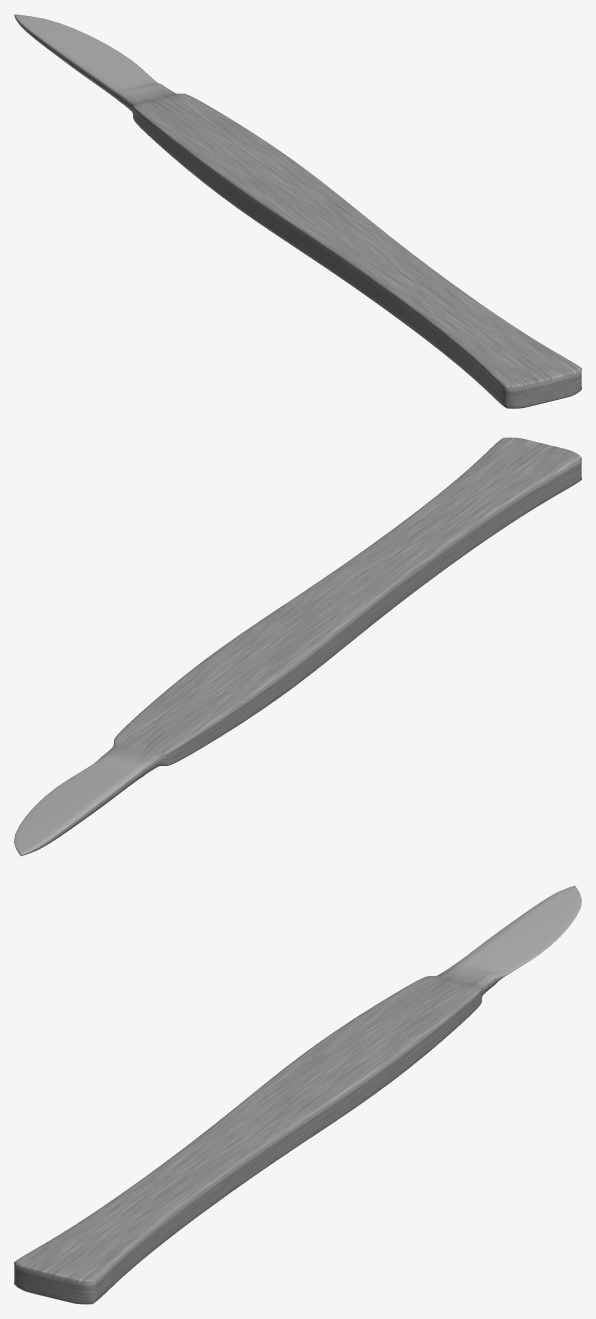
Rendered from Scalpel.fbx.
The picture shows the model from 3 angles, top to bottom: view 1: azimuth 30°, elevation 25°; view 2: azimuth 150°, elevation 25°; view 3: azimuth 330°, elevation 25°; orthographic projection. The views are drawn at different scales.
Parts seen in each view (by area): view 1: cadnav.com; view 2: cadnav.com; view 3: cadnav.com.
Boxes of the visible parts, box(x1,y1,x2,y2) form: cadnav.com: box(14, 14, 581, 408); cadnav.com: box(14, 437, 581, 856); cadnav.com: box(14, 885, 581, 1304).
Size of the model in its own units: 6.68 by 1.97 by 77.91.
Materials: 1 (1 with a texture image).
